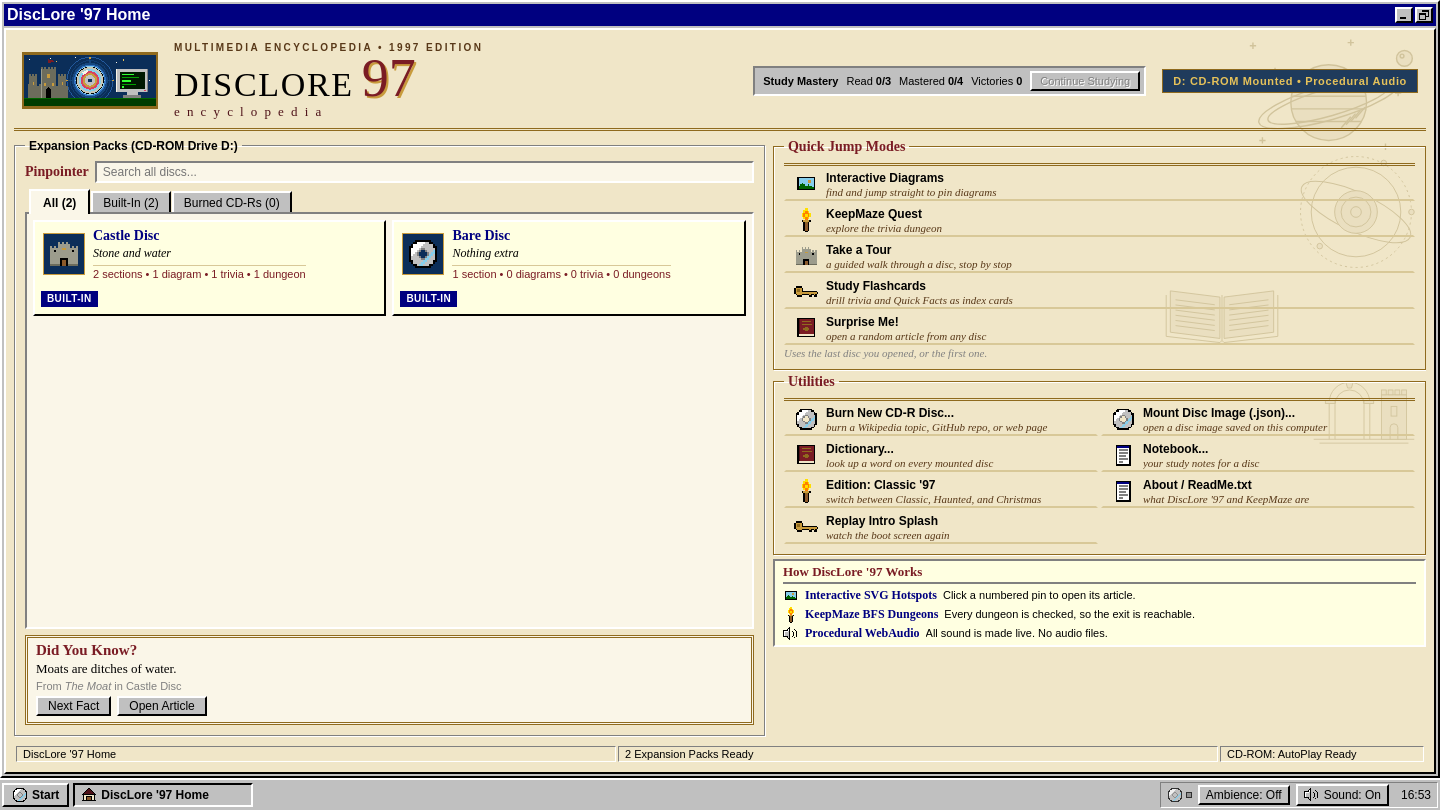
Test: Start menu › opens from the Start button with aria-expanded, a DiscLore 97 side strip, and every item
Step 1. Click the button with aria-label "Start menu" → x=36, y=795, box [2,783,69,807]
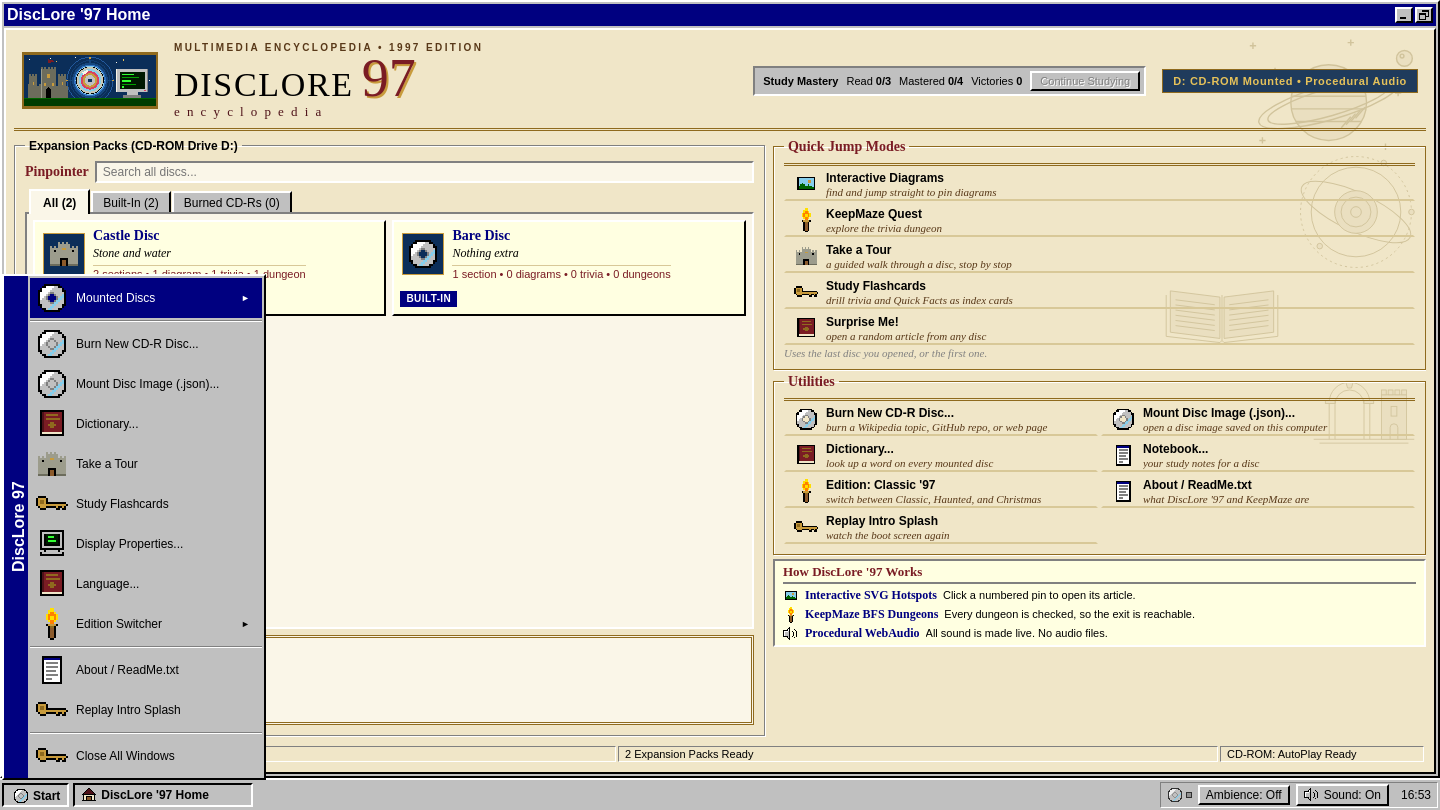
Check: the button with aria-label "Start menu" is expanded, box [2,783,69,807]
Check: the element with class "startmenu__banner" reads "DiscLore 97", box [10,482,27,572]
